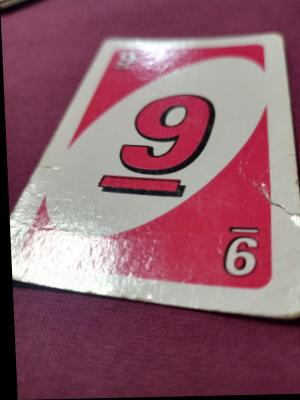num_9: (90, 88, 221, 202), (215, 218, 263, 285)
